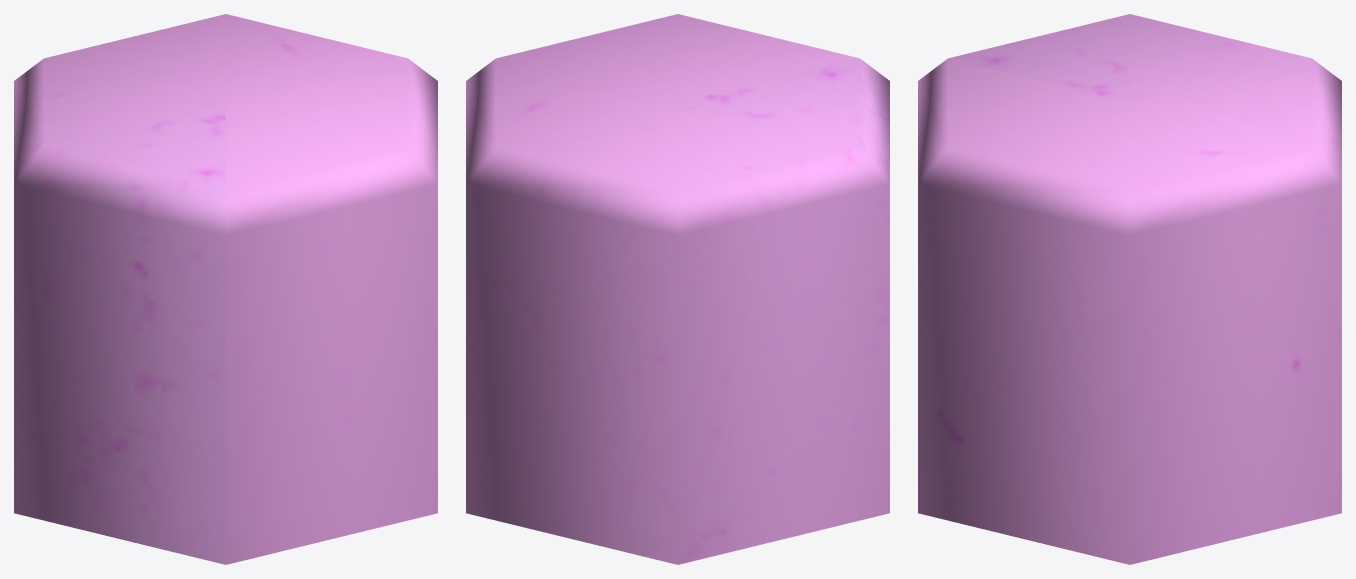
The model's file is PipeSmallCap_01_SM_Low.fbx.
3 views of the same model, side by side, from view 1: azimuth 30°, elevation 25°; view 2: azimuth 150°, elevation 25°; view 3: azimuth 270°, elevation 25° (orthographic).
Visible parts, largest first — view 1: Small_EndCap; view 2: Small_EndCap; view 3: Small_EndCap.
Part boxes in pixels (x1=…): Small_EndCap: x1=14, y1=14, x2=437, y2=564; Small_EndCap: x1=466, y1=14, x2=889, y2=564; Small_EndCap: x1=918, y1=14, x2=1341, y2=564.
Size of the model in its own units: 10.27 by 8.31 by 8.9.
1 material, 1 textured.
